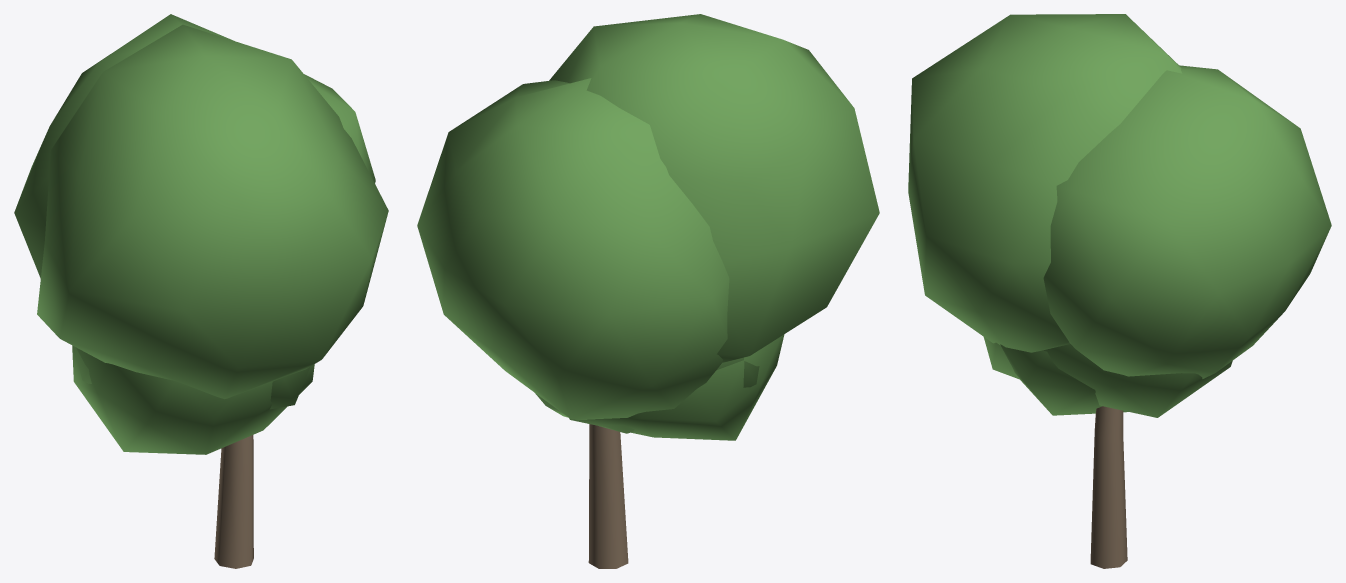
Rendered from tree_a.glb.
3 renders of one model, left to right at view 1: azimuth 30°, elevation 25°; view 2: azimuth 150°, elevation 25°; view 3: azimuth 270°, elevation 25°, orthographic. The views are drawn at different scales.
Parts seen in each view (by area): view 1: Tree; view 2: Tree; view 3: Tree.
Boxes of the visible parts, box(x1,y1,x2,y2) form: Tree: box(14, 14, 388, 568); Tree: box(417, 14, 879, 568); Tree: box(908, 14, 1331, 568).
Bounding box in the file's own units: 4.51 × 6.37 × 4.8.
